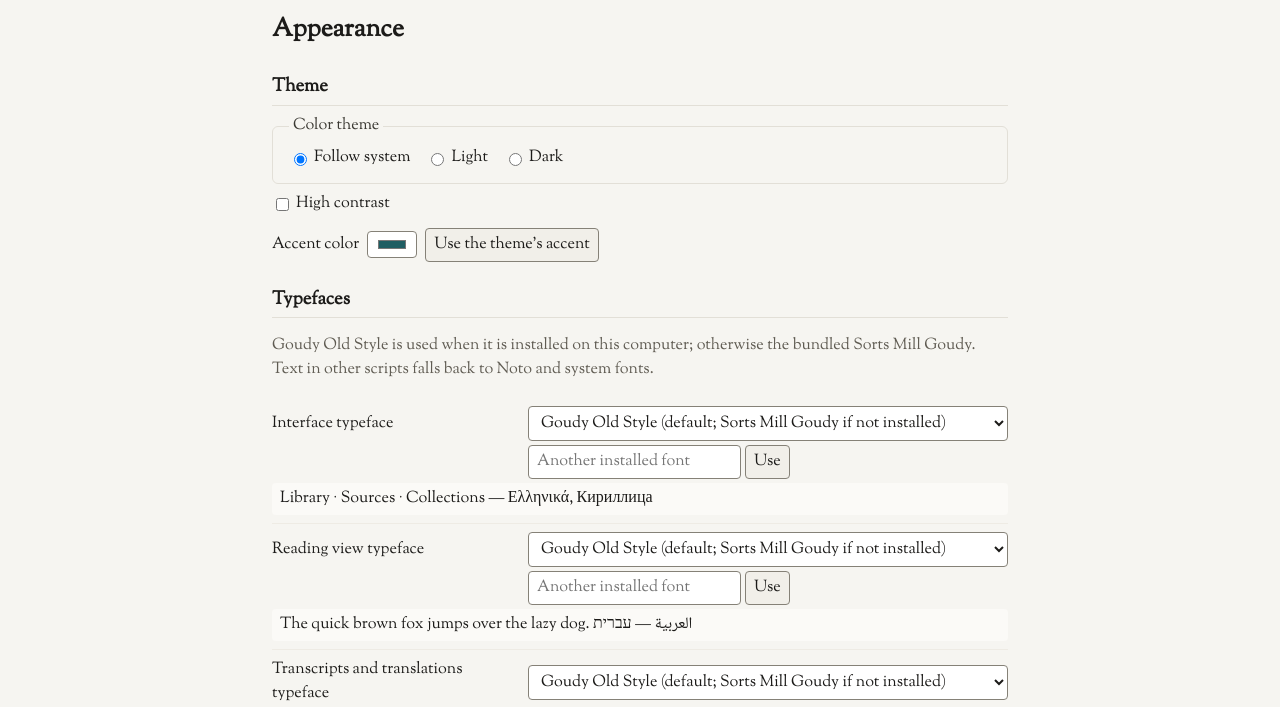
it: the appearance settings cannot be read (Task 68) › a refused change says why and offers the reset; another failure does not offer it
Click the radio button labelled "Dark": coordinates (516, 160) x1=509 y1=153 x2=522 y2=166
(page scrolled)
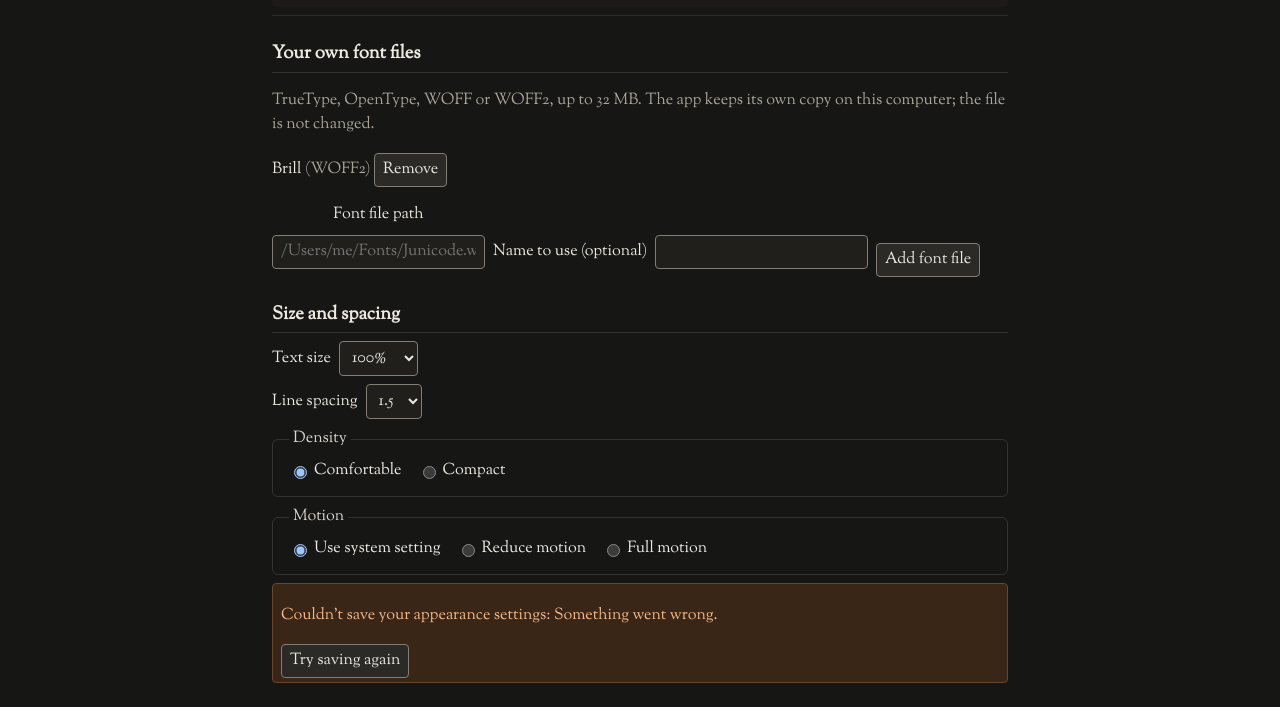
Check: the button "Try saving again" is shown, box x1=281 y1=644 x2=409 y2=678
